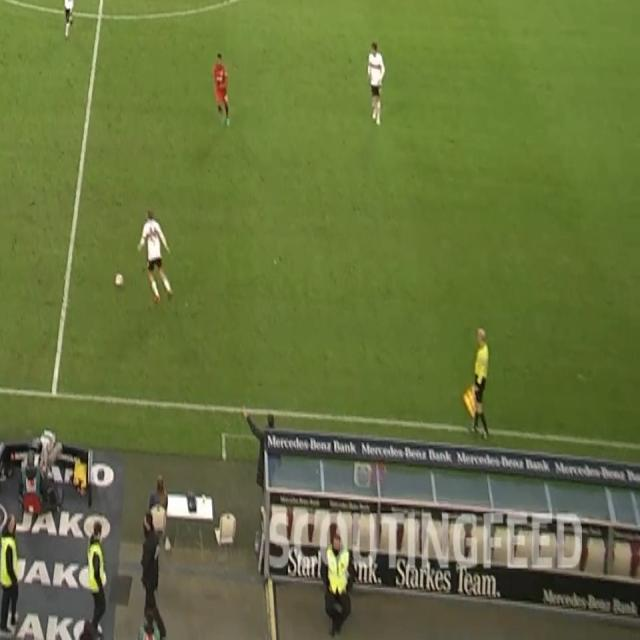ball: (114, 271, 125, 290)
